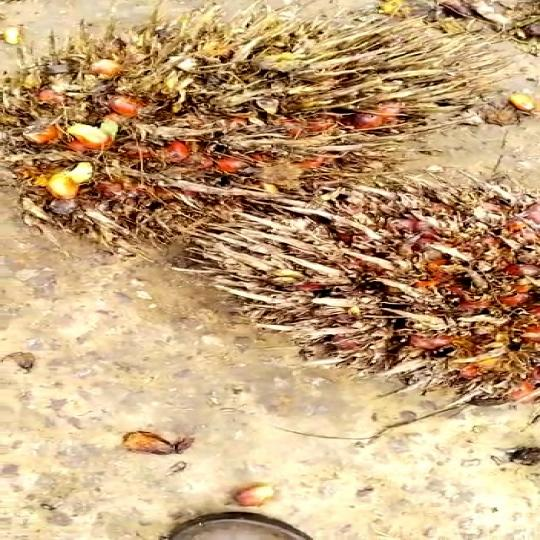terlalu masak: (0, 26, 494, 226)
